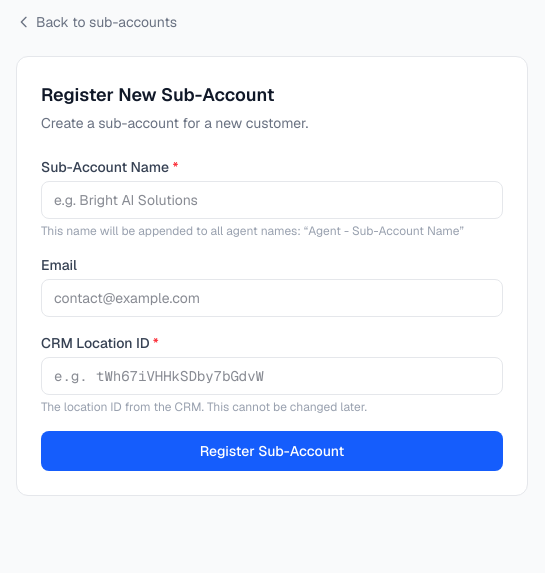
it: RegisterTenantPage › shows error message on failure
Type "Bad" into the field labelled "Sub-Account Name *" at (272, 200), box x1=41 y1=181 x2=503 y2=219
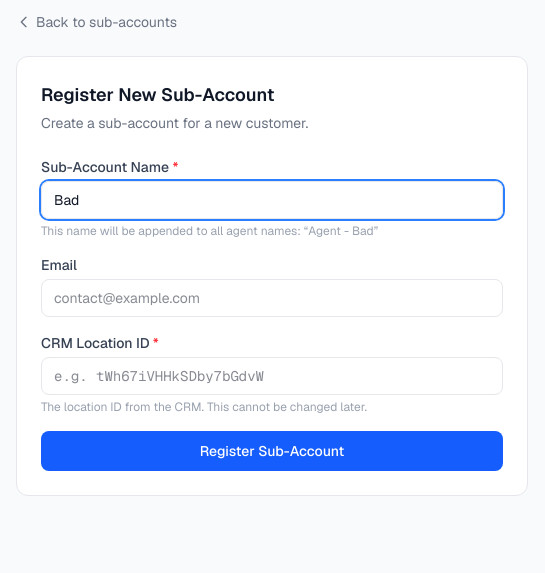
Type "loc_2" into the field labelled "CRM Location ID *" at (272, 376), box x1=41 y1=357 x2=503 y2=395
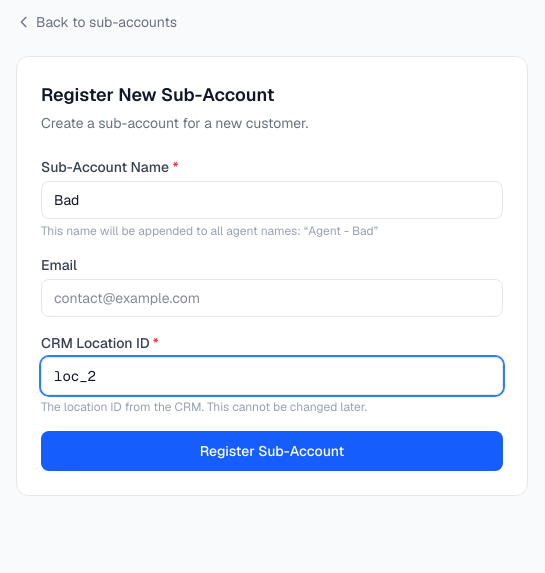
Click the button "Register Sub-Account" at (272, 451), box x1=41 y1=431 x2=503 y2=471
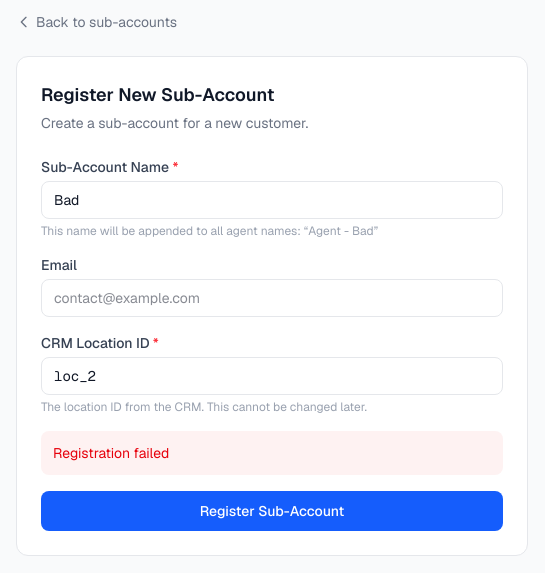
Expected: the text "Registration failed" is shown, x1=41 y1=431 x2=503 y2=475
